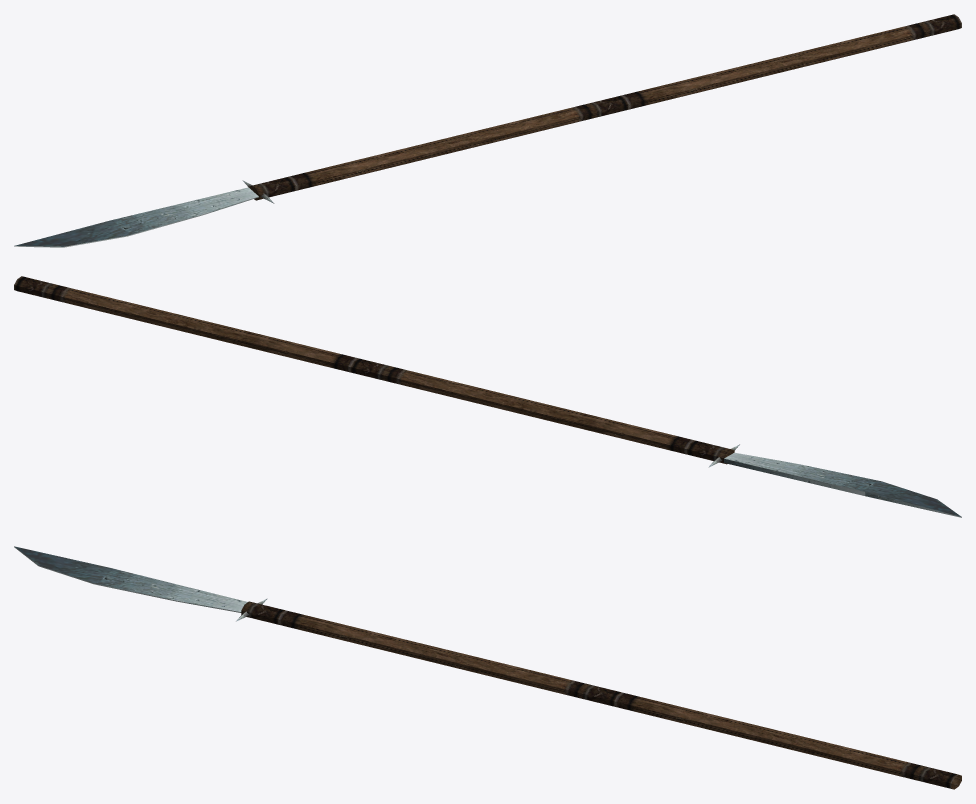
Rendered from drzewcowa2.glb.
3 renders of one model, top to bottom at view 1: azimuth 30°, elevation 25°; view 2: azimuth 150°, elevation 25°; view 3: azimuth 330°, elevation 25°, orthographic.
Visible parts, largest first — view 1: zengin; view 2: zengin; view 3: zengin.
Part boxes in pixels (x1,y1,x2,y2): zengin: (14, 14, 961, 247); zengin: (14, 276, 961, 517); zengin: (14, 546, 961, 789).
Size of the model in its own units: 2.07 by 0.0248 by 0.1236.
Materials: 3 (3 with a texture image).
